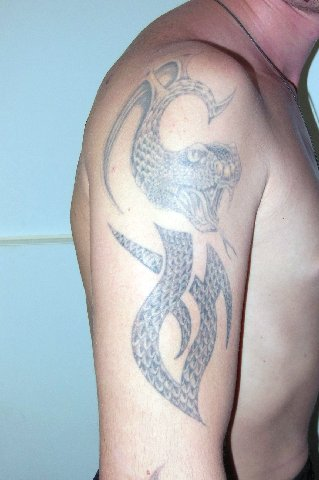tatu7_zmeya: (99, 46, 268, 453)
